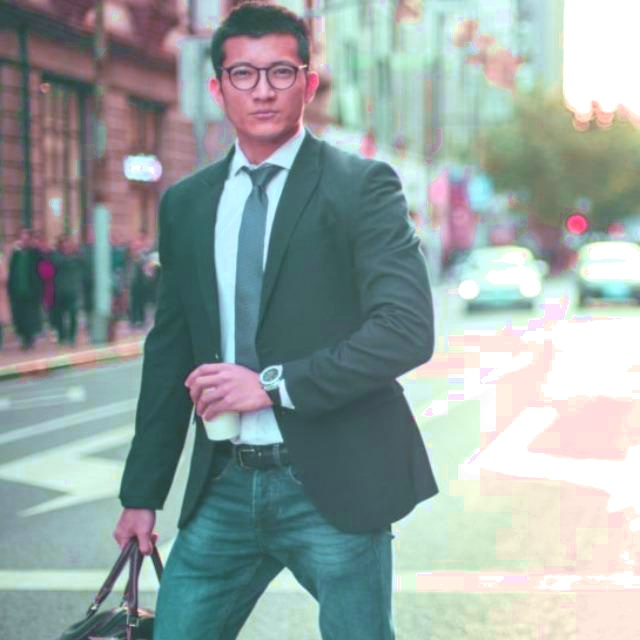Sin_Casco_Mascarrilla: (208, 4, 320, 144)
Sin_Chaleco: (149, 144, 427, 452)
